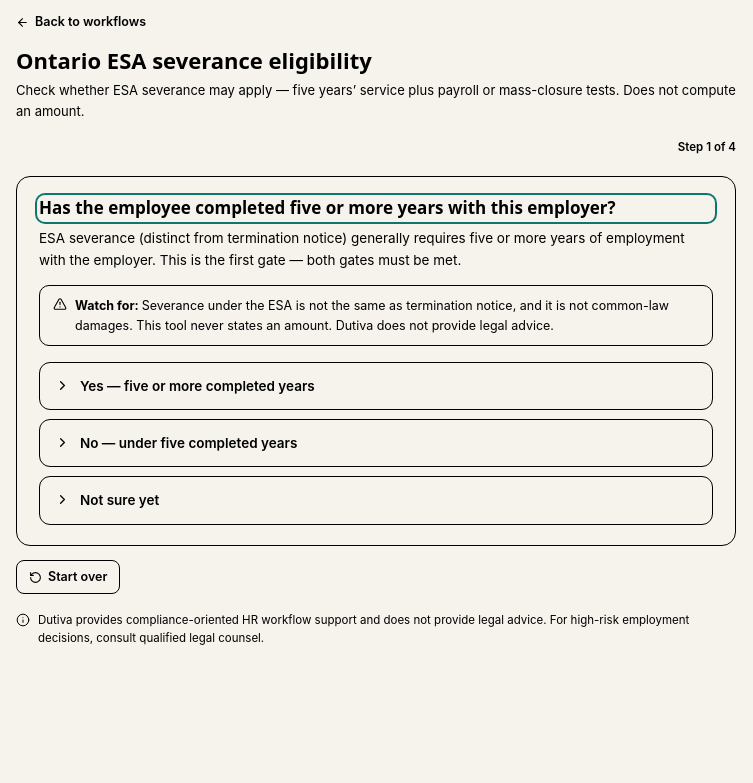
Scenario: FlowRunner › gates ESA severance without stating an amount
Step 1. Click the button "Yes — five or more completed years" → (197, 386), box [39,362,713,410]
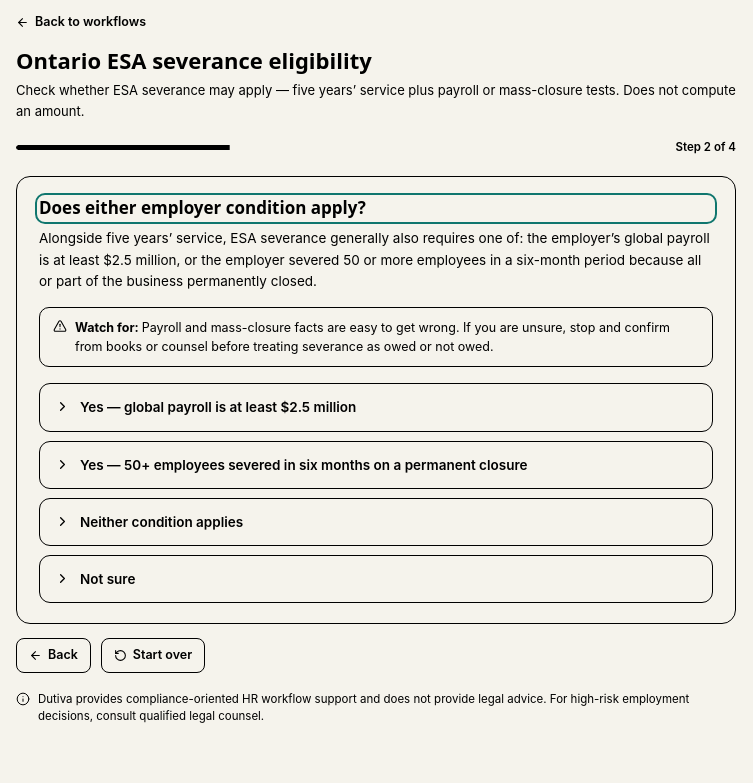
Step 2. Click the button "Yes — global payroll is at least $2.5 million" → (218, 407), box [39,384,713,432]
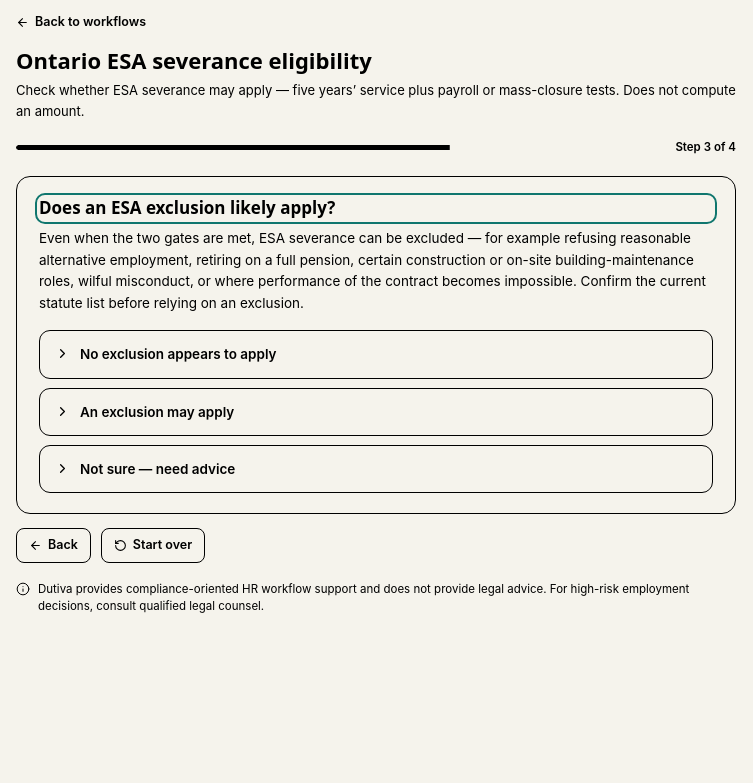
Step 3. Click the button "No exclusion appears to apply" → (178, 354), box [39,330,713,379]
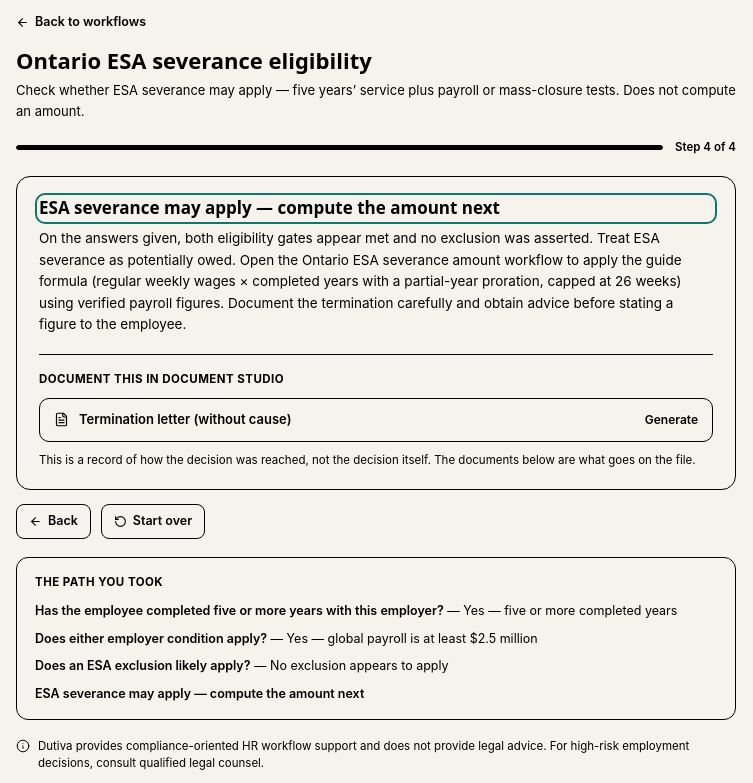
expect the heading "ESA severance may apply — compute the amount next" is shown: met, box [39,196,500,219]
